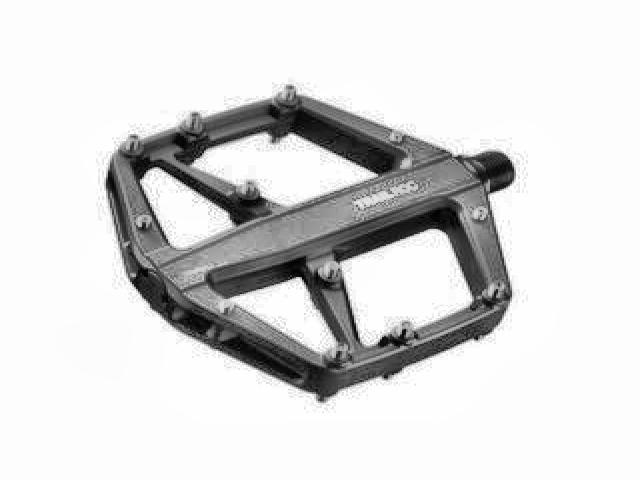pedal: (98, 81, 522, 407)
